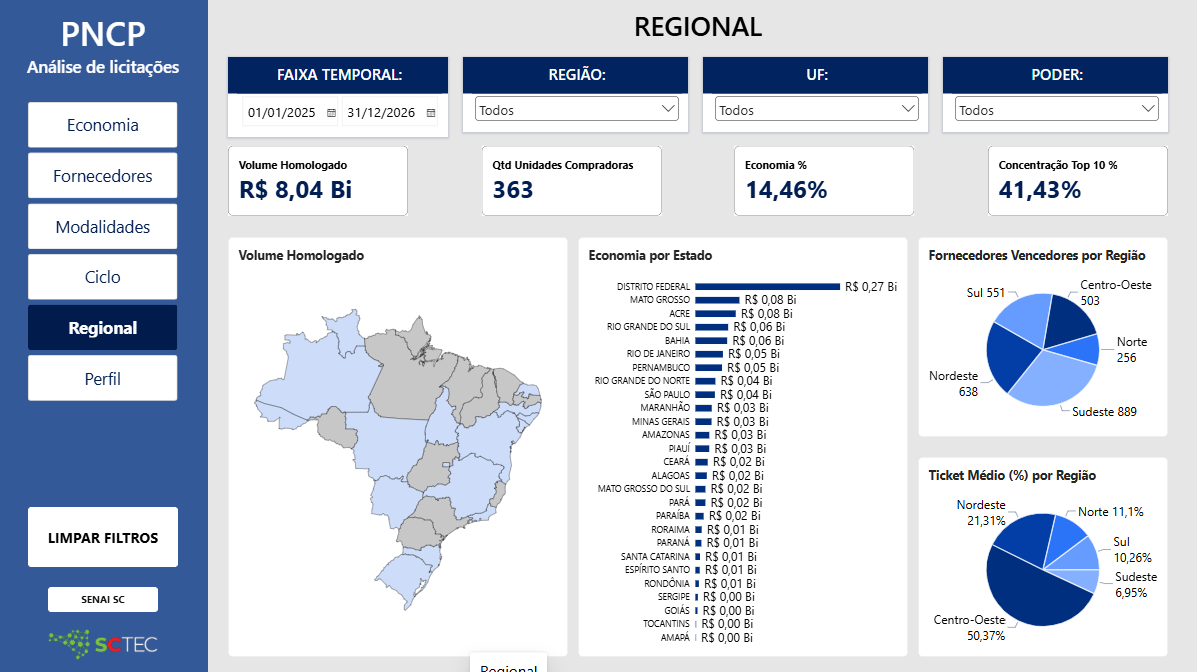

What the dashboard file says about the page in this screenshot:
{"tool":"powerbi","page":{"name":"Regional","canvas":[1920,1080],"ordinal":4},"visuals":[{"type":"textbox","box":[0,-8,336,1088],"z":0},{"type":"image","box":[80,1008,176,56],"z":1000},{"type":"textbox","box":[368,16,1504,64],"z":2000},{"type":"slicer","title":"REGIÃO:","fields":{"Values":["dim_localidade.regiao"]},"box":[744,96,360,120],"z":3000},{"type":"slicer","title":"UF:","fields":{"Values":["dim_localidade.uf_nome"]},"box":[1128,96,360,120],"z":4000},{"type":"cardVisual","fields":{"Data":["_medidas.Volume Homologado"]},"box":[368,237,288,112],"z":5000},{"type":"cardVisual","fields":{"Data":["_medidas.Concentração Top 10 %"]},"box":[1584,237,288,112],"z":6000},{"type":"clusteredBarChart","title":"Economia por Estado","fields":{"Category":["dim_localidade.uf_nome"],"Y":["_medidas.Economia (R$)"]},"box":[928,384,528,672],"z":7000},{"type":"shapeMap","title":"Volume Homologado","fields":{"Category":["dim_localidade.uf_nome"],"Value":["_medidas.Volume Homologado"]},"box":[368,384,544,672],"z":8000},{"type":"cardVisual","fields":{"Data":["_medidas.Qtd Unidades Compradoras"]},"box":[773.3,237,288,112],"z":9000},{"type":"slicer","title":"PODER:","fields":{"Values":["dim_orgao.poder"]},"box":[1512,96,360,120],"z":10000},{"type":"cardVisual","fields":{"Data":["_medidas.Economia %"]},"box":[1178.7,237,288,112],"z":11000},{"type":"slicer","title":"FAIXA TEMPORAL:","fields":{"Values":["dCalendario.Date"]},"box":[368,96,352,128],"z":12000},{"type":"pieChart","title":"Fornecedores Vencedores por Região","fields":{"Category":["dim_localidade.regiao"],"Y":["_medidas.Qtd Fornecedores Vencedores"]},"box":[1472,384,400,320],"z":13000},{"type":"pieChart","title":"Ticket Médio (%) por Região","fields":{"Category":["dim_localidade.regiao"],"Y":["_medidas.Ticket Médio por Item (R$)"]},"box":[1472,736,400,320],"z":14000},{"type":"pageNavigator","box":[48,168,240,480],"z":15000},{"type":"actionButton","box":[48,816,240,96],"z":16000},{"type":"actionButton","box":[80,944,176,40],"z":17000}]}

Visuals, with their boxes on the page's 1920x1080 design canvas (x1, y1, x2, y2). These are canvas units, not pixel positions in the 1197x672 screenshot, which may show the page scaled, cropped or inside an application window:
textbox: <region>0, -8, 336, 1080</region>
image: <region>80, 1008, 256, 1064</region>
textbox: <region>368, 16, 1872, 80</region>
"REGIÃO:" slicer: <region>744, 96, 1104, 216</region>
"UF:" slicer: <region>1128, 96, 1488, 216</region>
cardVisual - _medidas.Volume Homologado: <region>368, 237, 656, 349</region>
cardVisual - _medidas.Concentração Top 10 %: <region>1584, 237, 1872, 349</region>
"Economia por Estado" clusteredBarChart: <region>928, 384, 1456, 1056</region>
"Volume Homologado" shapeMap: <region>368, 384, 912, 1056</region>
cardVisual - _medidas.Qtd Unidades Compradoras: <region>773, 237, 1061, 349</region>
"PODER:" slicer: <region>1512, 96, 1872, 216</region>
cardVisual - _medidas.Economia %: <region>1179, 237, 1467, 349</region>
"FAIXA TEMPORAL:" slicer: <region>368, 96, 720, 224</region>
"Fornecedores Vencedores por Região" pieChart: <region>1472, 384, 1872, 704</region>
"Ticket Médio (%) por Região" pieChart: <region>1472, 736, 1872, 1056</region>
pageNavigator: <region>48, 168, 288, 648</region>
actionButton: <region>48, 816, 288, 912</region>
actionButton: <region>80, 944, 256, 984</region>
